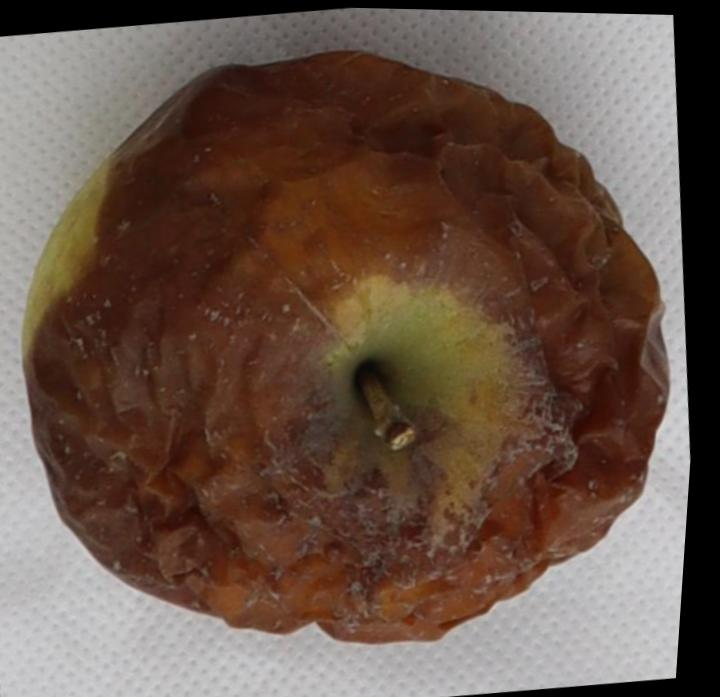apple: (25, 50, 667, 641)
rot_mold_decay: (27, 53, 667, 639)
